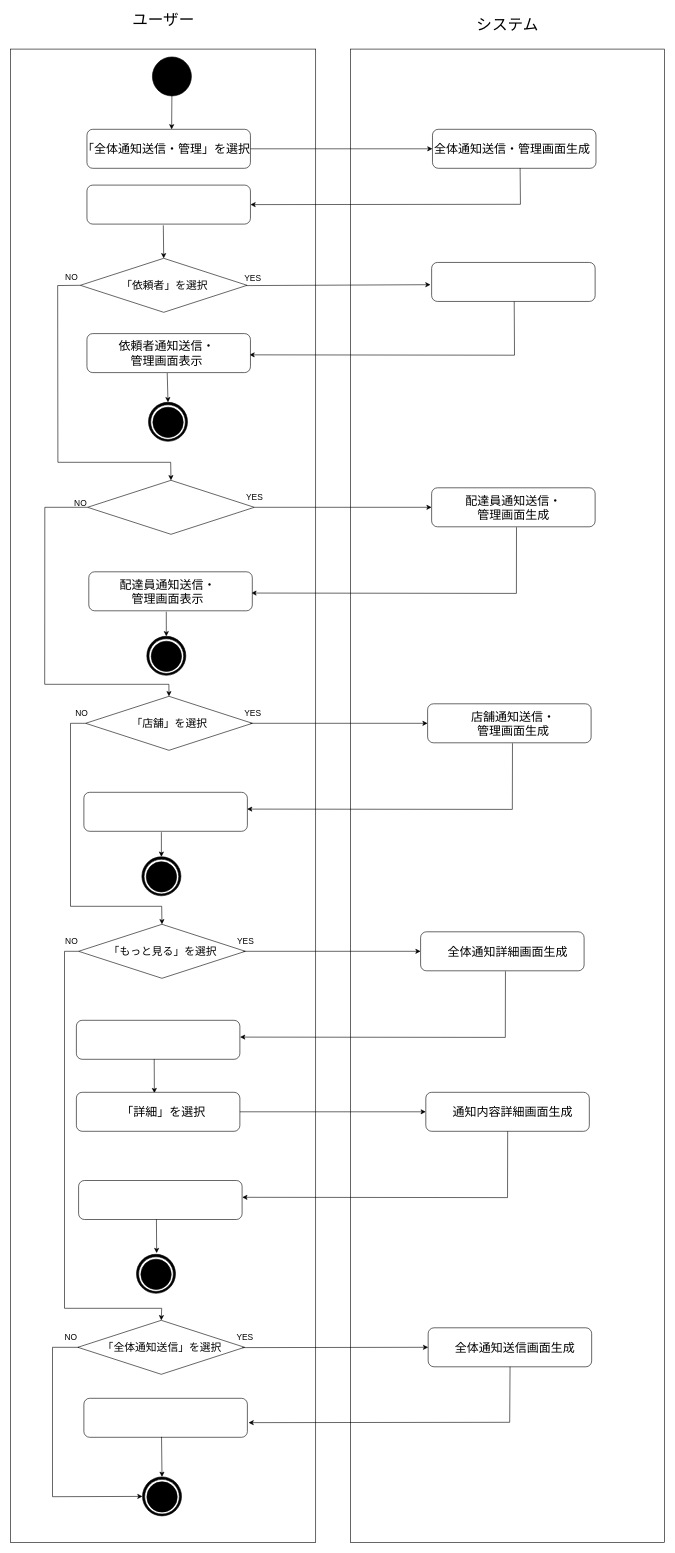
The diagram is 675 pixels wide and 1553 high, and some of its shapes have lost their labels. The centre of each missing label's shape, as x and y in pixels:
"「配達員」を選択" belongs at point (170, 507).
"依頼者通知送信・管理画面生成" belongs at point (513, 281).
"全体通知詳細画面表示" belongs at point (158, 1039).
"全体通知送信・管理画面表示" belongs at point (168, 204).
"全体通知送信画面表示" belongs at point (165, 1417).
"店舗通知送信・管理画面表示" belongs at point (165, 811).
"通知内容詳細画面表示" belongs at point (160, 1200).
